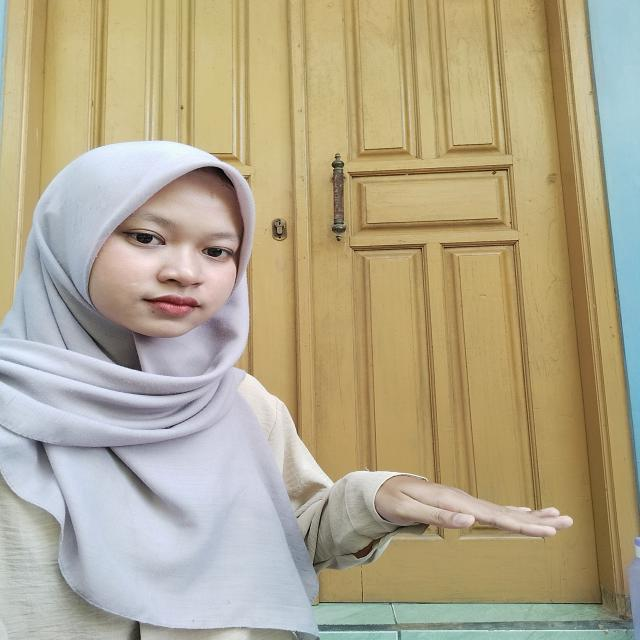adik: (310, 461, 583, 559)
